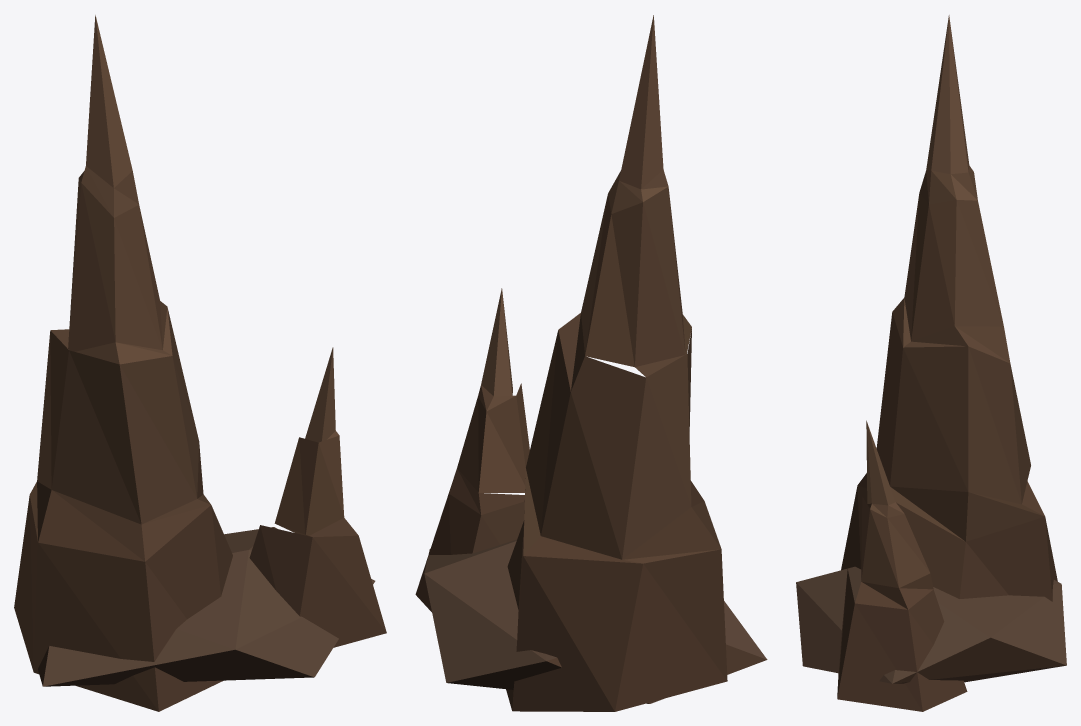
Rendered from tl_env_stalagmite_b_v01.glb.
3 views of the same model, side by side, from view 1: azimuth 30°, elevation 25°; view 2: azimuth 150°, elevation 25°; view 3: azimuth 270°, elevation 25° (orthographic). The views are drawn at different scales.
Parts seen in each view (by area): view 1: tl_env_stalagmite_b_v01; view 2: tl_env_stalagmite_b_v01; view 3: tl_env_stalagmite_b_v01.
Part boxes in pixels (box(x1,y1,x2,y2)): tl_env_stalagmite_b_v01: box(14, 15, 386, 711); tl_env_stalagmite_b_v01: box(415, 15, 767, 711); tl_env_stalagmite_b_v01: box(796, 15, 1066, 711).
Bounding box in the file's own units: 1.3 × 2.46 × 1.
